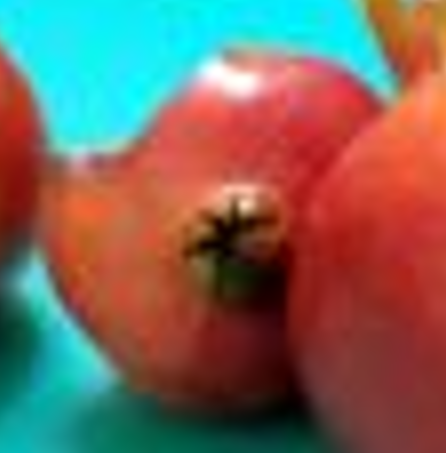pomegranate_C: (35, 45, 391, 422)
